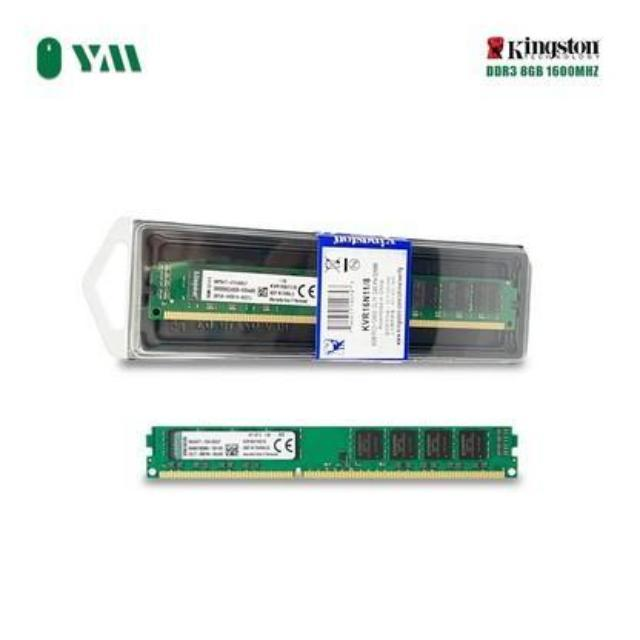RAM: (140, 262, 518, 332), (142, 422, 520, 484)
